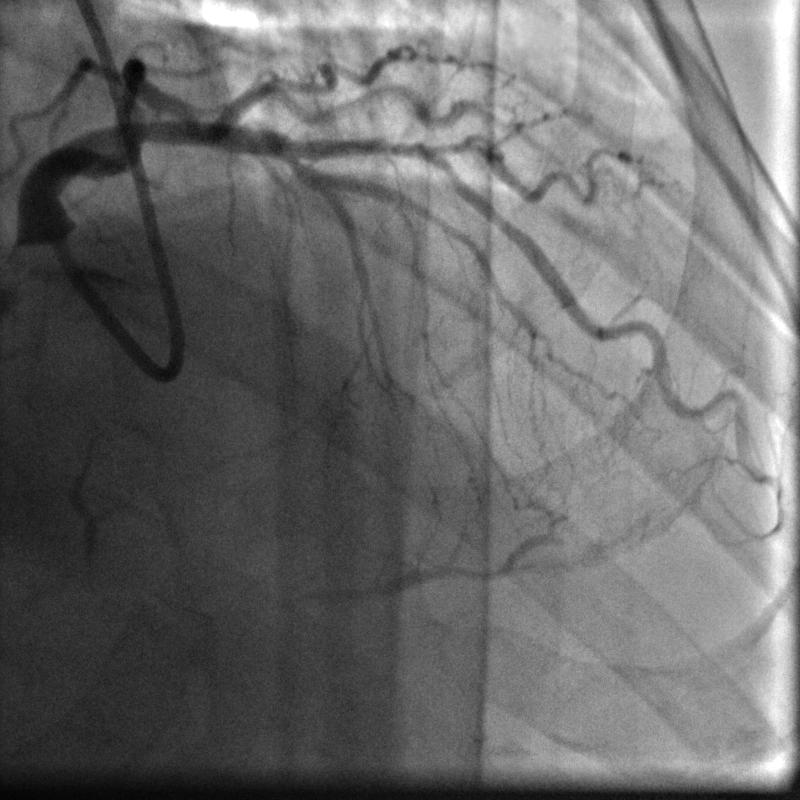Stenosis: (355, 133, 444, 169)
